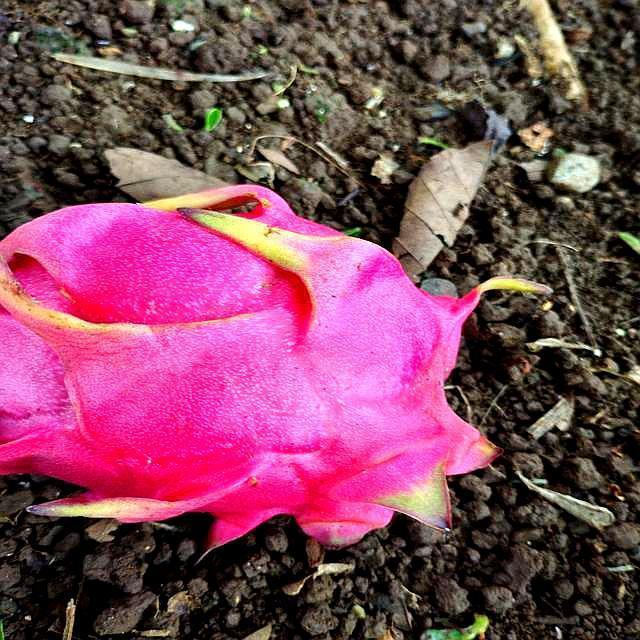Biodegradable: (1, 205, 467, 543)
